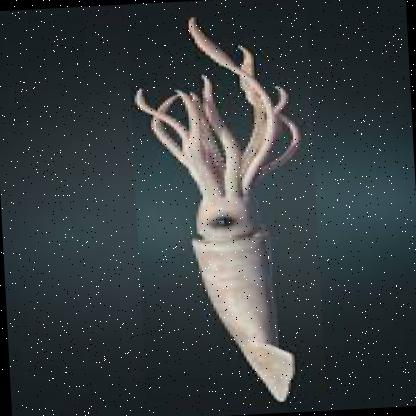colossal_squid: (124, 5, 326, 414)
